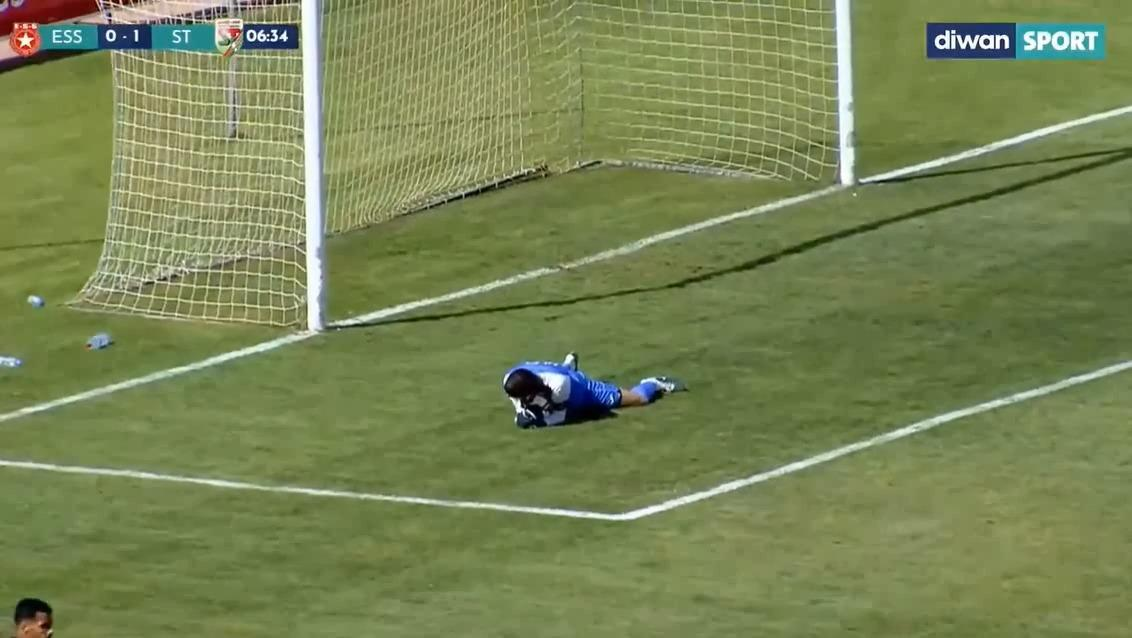goalkeeper: (505, 335, 672, 431)
